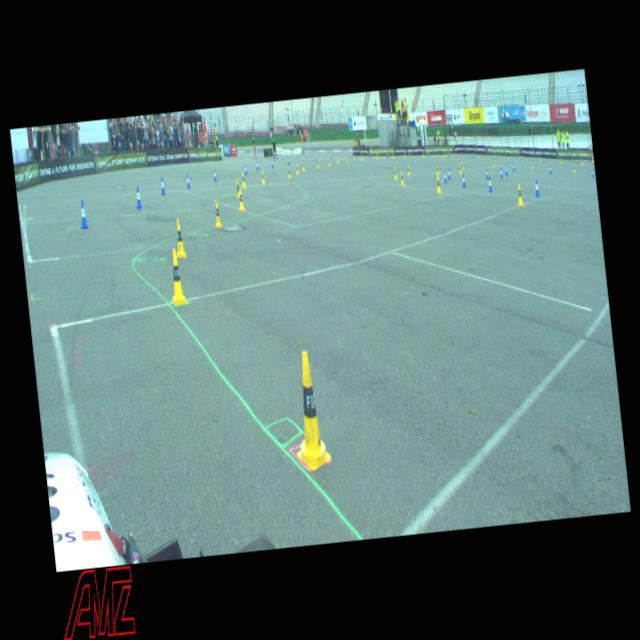blue_cone: (78, 198, 89, 229), (134, 185, 142, 209), (159, 176, 165, 195), (534, 178, 540, 196), (487, 176, 492, 192), (446, 167, 451, 180), (186, 173, 190, 188), (461, 174, 465, 188), (212, 168, 216, 181), (442, 170, 446, 183), (270, 158, 274, 168), (244, 162, 247, 175), (548, 164, 552, 173), (485, 168, 488, 179), (499, 168, 502, 178), (505, 165, 508, 175), (286, 155, 289, 164), (301, 153, 304, 162), (591, 168, 594, 176), (329, 151, 332, 159), (385, 150, 388, 158), (349, 151, 352, 158), (256, 160, 258, 170), (512, 162, 514, 171), (367, 150, 369, 158), (504, 164, 506, 172), (314, 152, 316, 159), (495, 152, 497, 159), (576, 158, 578, 164), (470, 152, 472, 158)
large_orange_cone: (590, 154, 594, 165)
yellow_cone: (286, 348, 332, 471), (166, 246, 187, 306), (172, 217, 186, 260), (212, 199, 222, 228), (237, 188, 244, 211), (516, 183, 522, 205), (234, 178, 240, 198), (240, 172, 246, 188), (399, 170, 404, 185), (436, 175, 440, 192), (392, 166, 397, 179), (287, 166, 291, 178), (261, 169, 264, 183), (406, 163, 409, 174), (458, 163, 461, 173), (316, 158, 319, 168), (461, 160, 464, 170), (491, 159, 494, 168), (296, 162, 298, 174), (580, 158, 583, 166), (302, 160, 304, 170), (436, 164, 438, 174), (336, 154, 338, 163), (328, 156, 330, 165), (376, 152, 378, 160), (530, 161, 532, 169), (572, 164, 574, 172), (360, 153, 362, 160), (482, 153, 484, 160), (538, 156, 540, 163), (520, 155, 522, 162), (392, 151, 394, 158), (403, 151, 405, 158), (444, 150, 446, 157), (502, 154, 504, 161), (346, 154, 348, 160), (559, 156, 561, 162)
